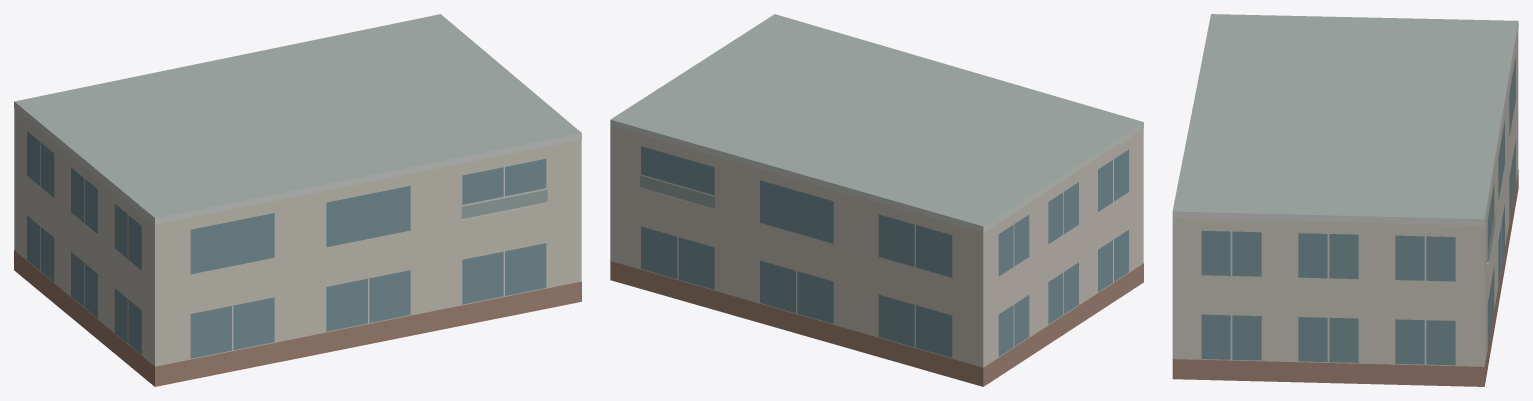
File: survey-upis-33030959.glb
3 views of the same model, side by side, from view 1: azimuth 30°, elevation 25°; view 2: azimuth 150°, elevation 25°; view 3: azimuth 270°, elevation 25° (orthographic). The views are drawn at different scales.
Parts seen in each view (by area): view 1: survey-upis-33030959.tmp; view 2: survey-upis-33030959.tmp; view 3: survey-upis-33030959.tmp.
Boxes of the visible parts, box(x1,y1,x2,y2) form: survey-upis-33030959.tmp: box(14, 14, 581, 386); survey-upis-33030959.tmp: box(610, 14, 1143, 386); survey-upis-33030959.tmp: box(1172, 14, 1518, 386).
Size of the model in its own units: 16.03 by 6.1 by 11.42.
